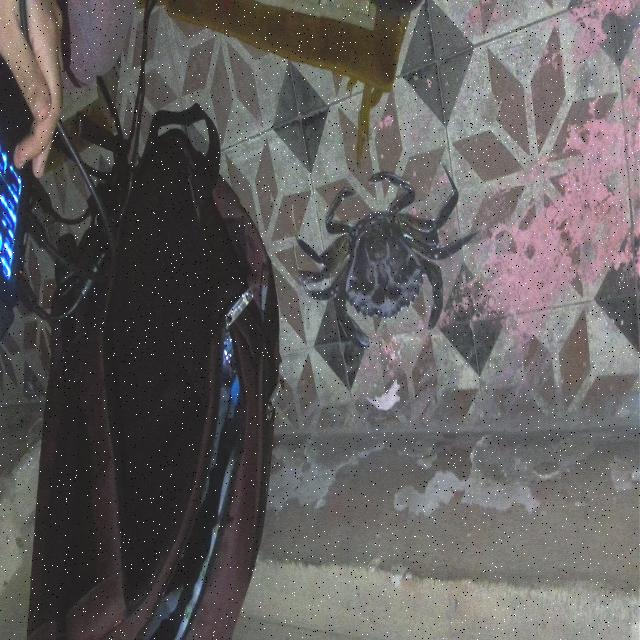European_Green_Crab: (293, 155, 467, 358)
